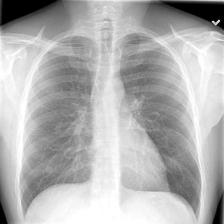normal: (15, 30, 205, 224)
